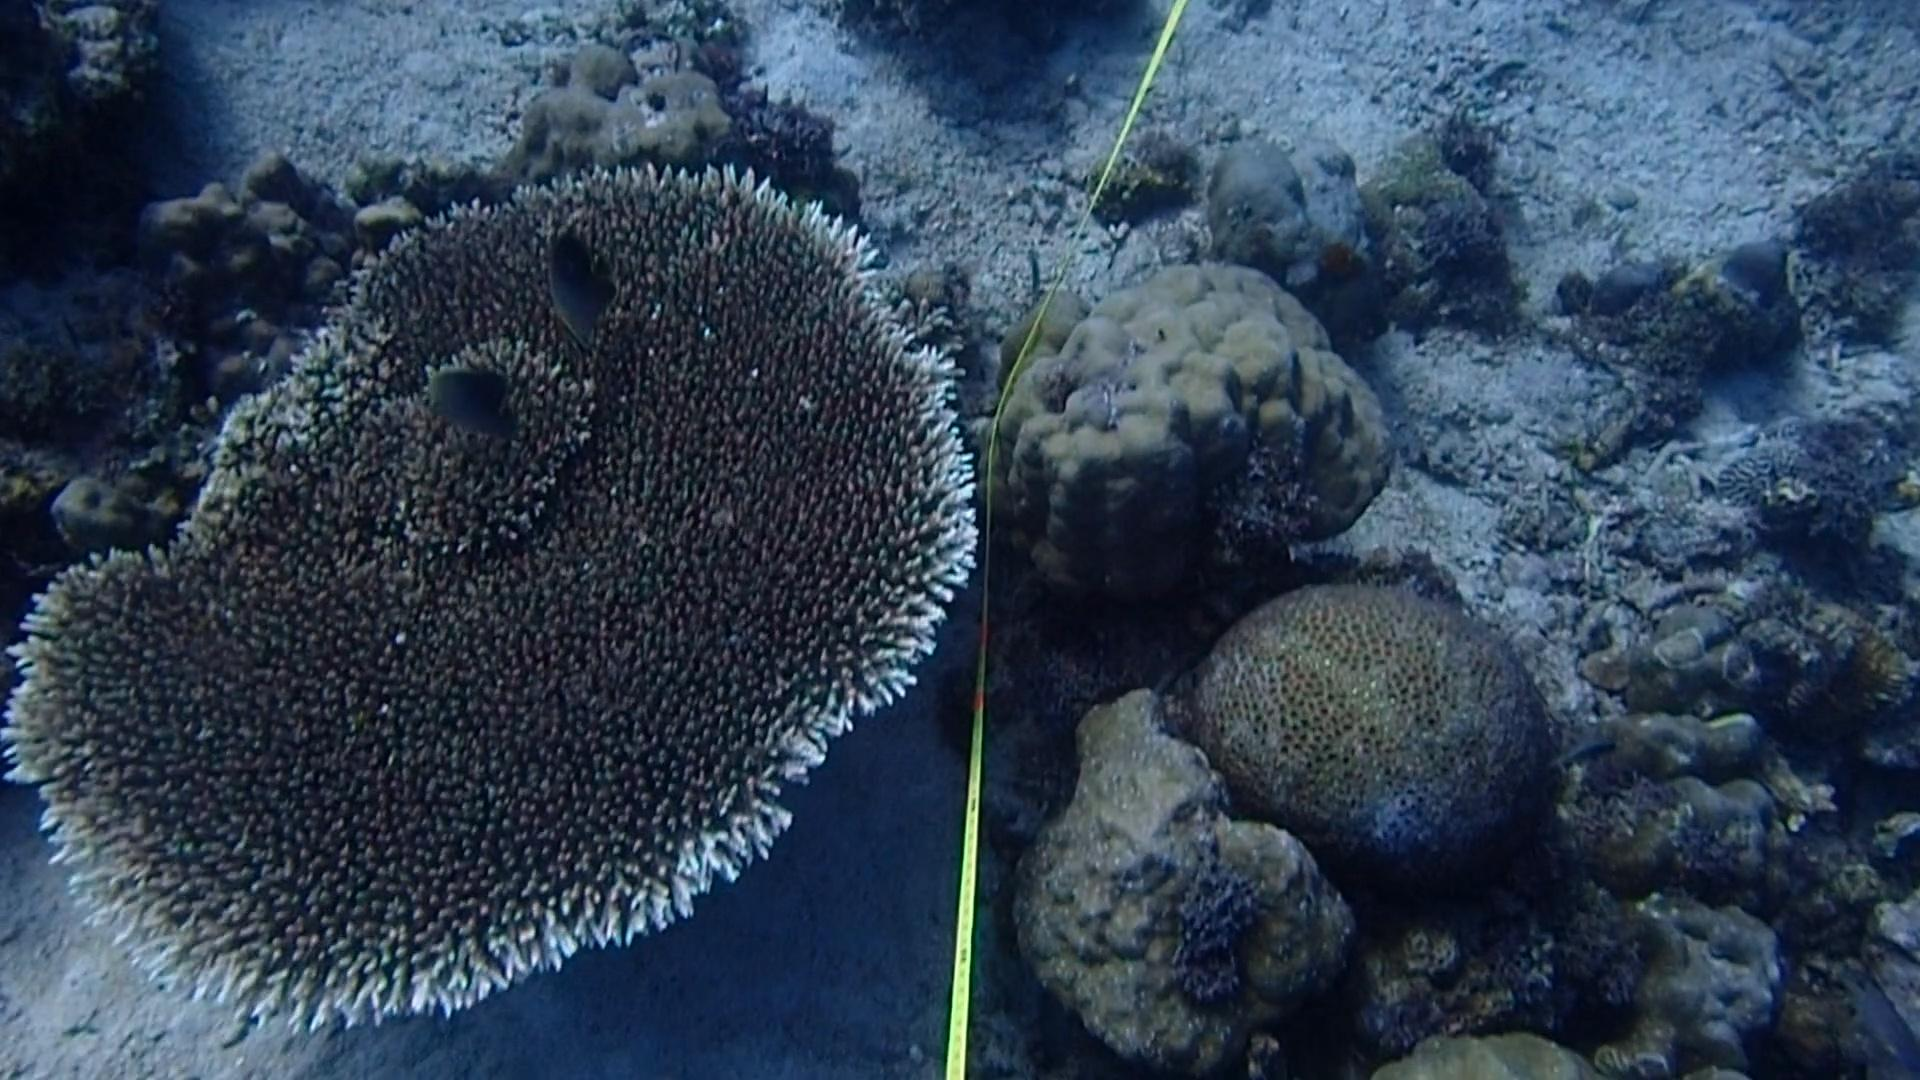Dark Blue Dory: (411, 361, 531, 456), (535, 228, 622, 349)
Light Fish: (1551, 724, 1619, 786)
